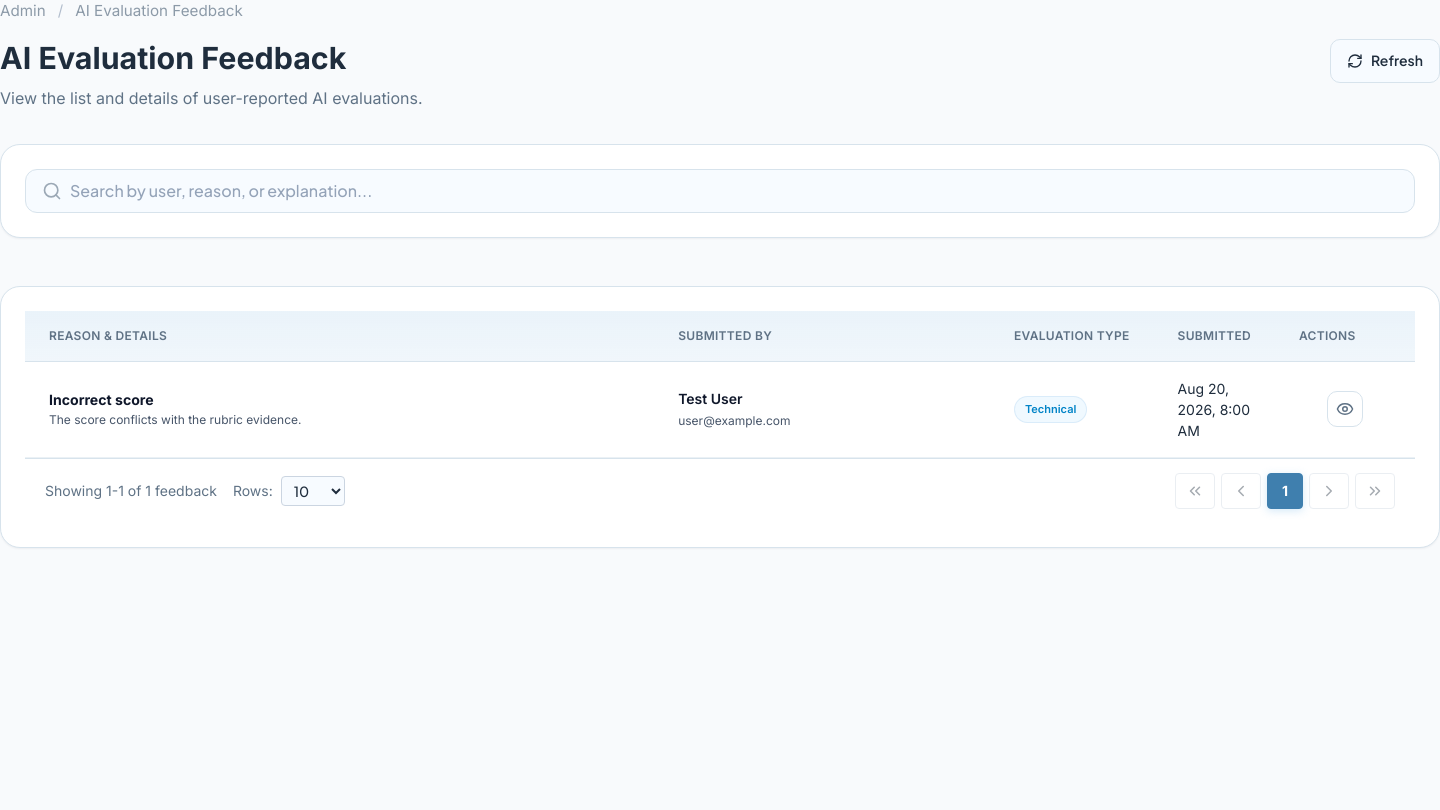
Test: AiFeedbackReviewPage › only displays feedback list and round-level detail
Step 1. Click the text "Incorrect score" → (101, 400), box [49, 392, 154, 408]
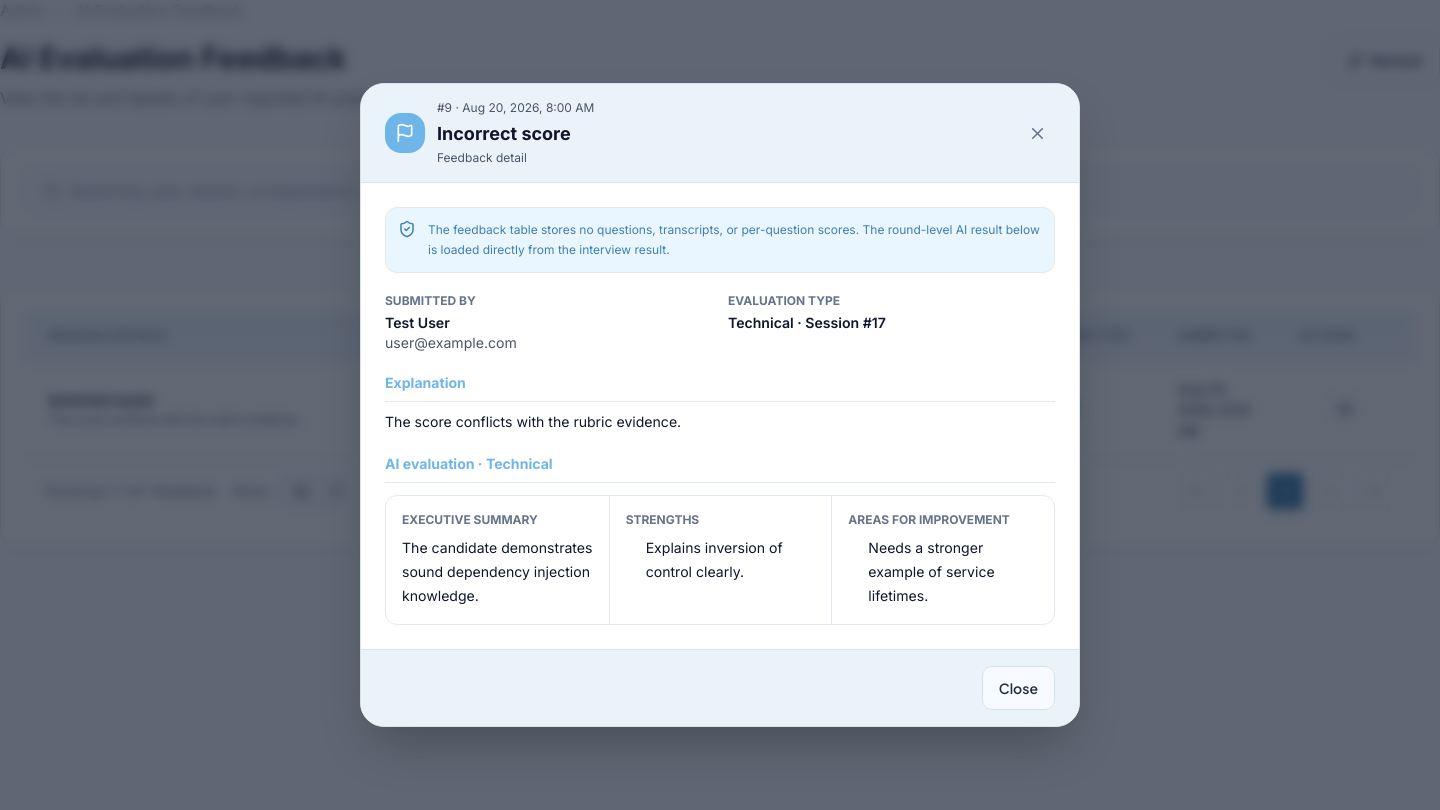
Expected: the dialog "Feedback detail" is shown, [360, 83, 1080, 727]
Expected: the text "The candidate demonstrates sound dependency injection knowledge." is shown, [402, 536, 593, 608]
Expected: the list item "Explains inversion of control clearly." is shown, [646, 539, 783, 580]
